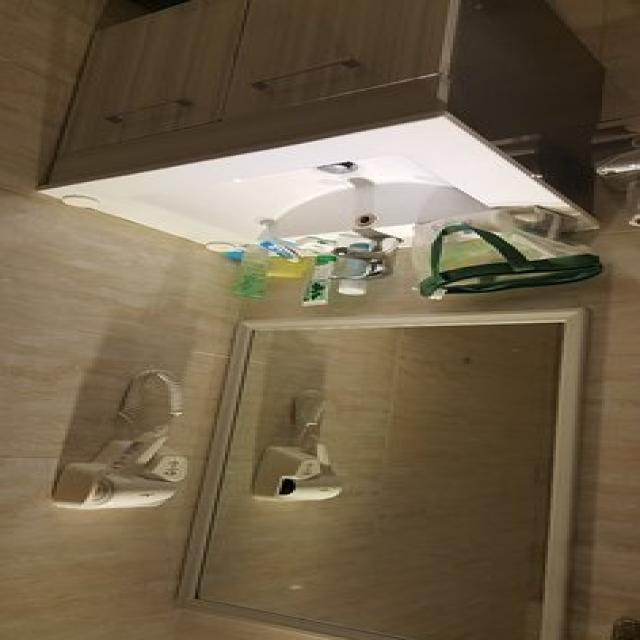dryer: (21, 350, 216, 524)
